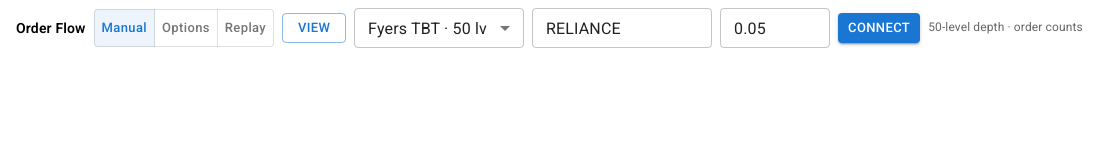
Test: OrderFlowPage replay mode › surfaces a journal listing failure
Click the button "Replay" at (245,28), box [217,9,274,47]
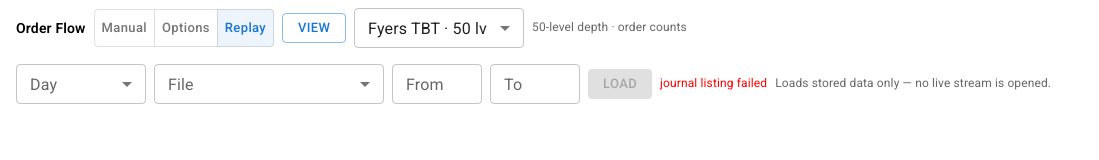
Expected: the text with test id "orderflow-replay-error" reads "journal listing failed", [660,76,767,90]
